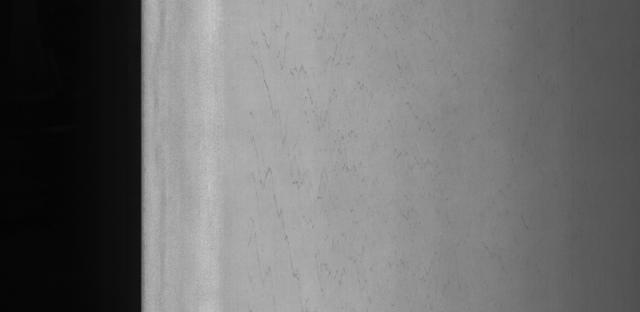silk_spot: (242, 38, 423, 293)
